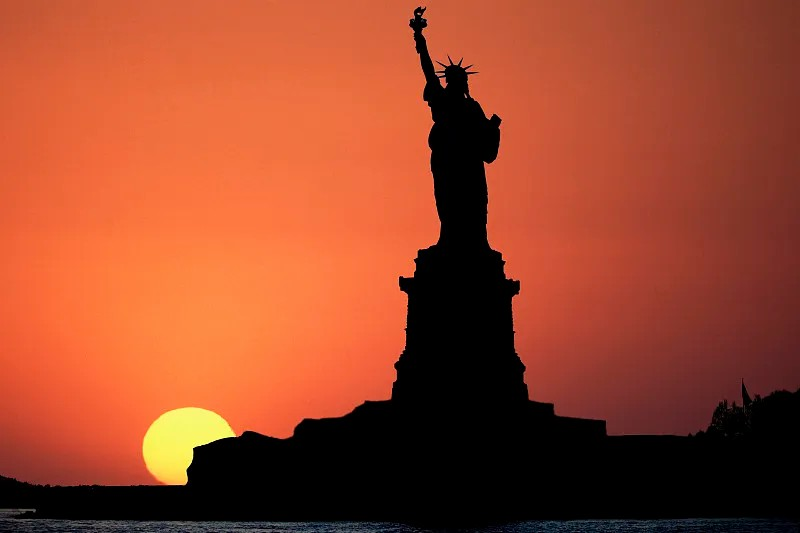SL: (391, 6, 530, 400)
